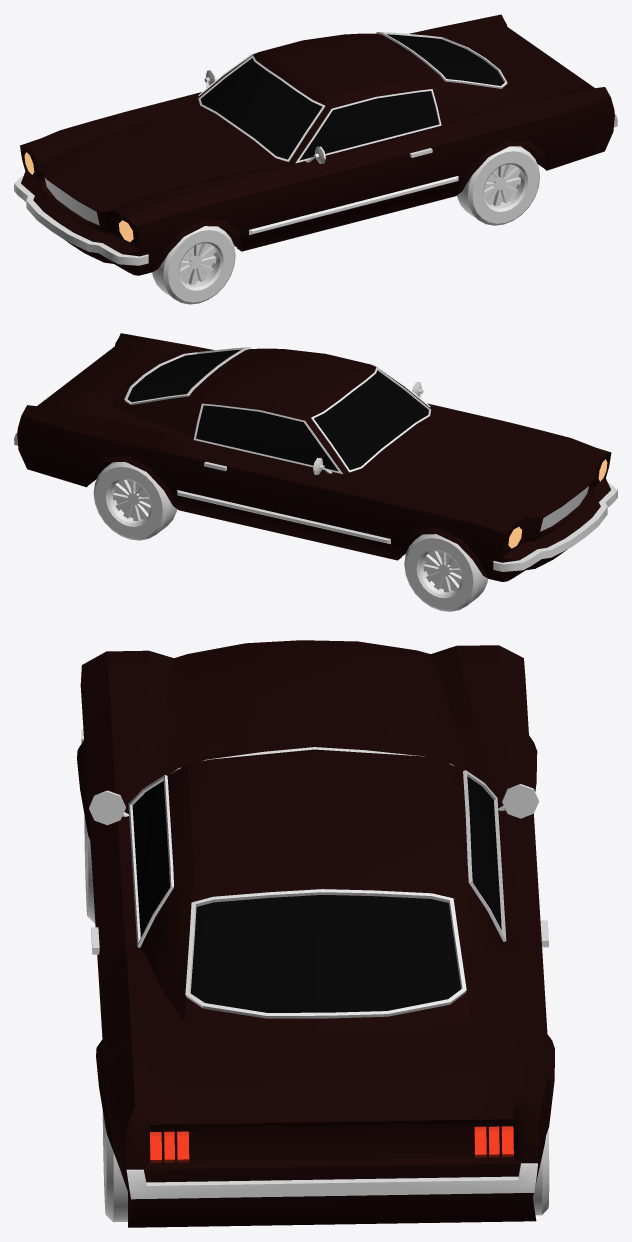
Rendered from mustang.glb.
3 views of the same model, one above another, from view 1: azimuth 30°, elevation 25°; view 2: azimuth 150°, elevation 25°; view 3: azimuth 270°, elevation 25° (orthographic). The views are drawn at different scales.
Parts seen in each view (by area): view 1: Mustang, Circle.002, Circle.001, Circle.009, Circle.010, Circle.005, Circle.007, Circle.006; view 2: Mustang, Circle.002, Circle.001, Circle.009, Circle.010, Circle.005, Circle.007, Circle.006; view 3: Mustang, Circle.011, Circle.007, Circle.005, Circle.002, Circle.003, Circle.008.
Part boxes in pixels (bbox=[...]): Mustang: bbox=[20, 14, 614, 275]; Circle.002: bbox=[457, 146, 539, 225]; Circle.001: bbox=[152, 226, 235, 304]; Circle.009: bbox=[14, 175, 148, 265]; Circle.010: bbox=[249, 176, 458, 234]; Circle.005: bbox=[198, 33, 441, 163]; Circle.007: bbox=[376, 31, 507, 88]; Circle.006: bbox=[198, 55, 325, 161]; Mustang: bbox=[17, 333, 611, 581]; Circle.002: bbox=[93, 462, 176, 540]; Circle.001: bbox=[404, 534, 487, 611]; Circle.009: bbox=[493, 482, 617, 571]; Circle.010: bbox=[177, 490, 390, 544]; Circle.005: bbox=[193, 354, 430, 473]; Circle.007: bbox=[124, 347, 250, 404]; Circle.006: bbox=[311, 367, 430, 472]; Mustang: bbox=[77, 640, 554, 1227]; Circle.011: bbox=[126, 1163, 537, 1199]; Circle.007: bbox=[185, 889, 466, 1018]; Circle.005: bbox=[128, 770, 506, 947]; Circle.002: bbox=[102, 1110, 549, 1222]; Circle.003: bbox=[150, 1126, 513, 1162]; Circle.008: bbox=[89, 784, 539, 825].
Size of the model in its own units: 0.7569 by 0.2156 by 0.3029.
